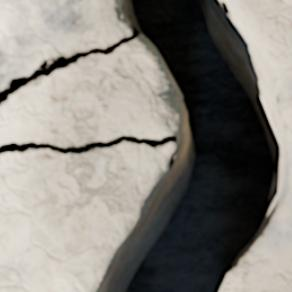broken_brick: (0, 142, 174, 291), (0, 36, 181, 146), (223, 0, 291, 291), (0, 0, 131, 89)
crack: (0, 0, 290, 291)
